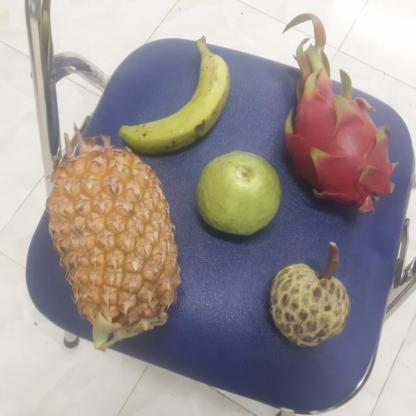annona: (262, 262, 352, 346)
banana: (116, 44, 229, 152)
guava: (191, 152, 281, 236)
pineapple: (41, 146, 182, 332)
pitaya: (279, 82, 392, 214)
